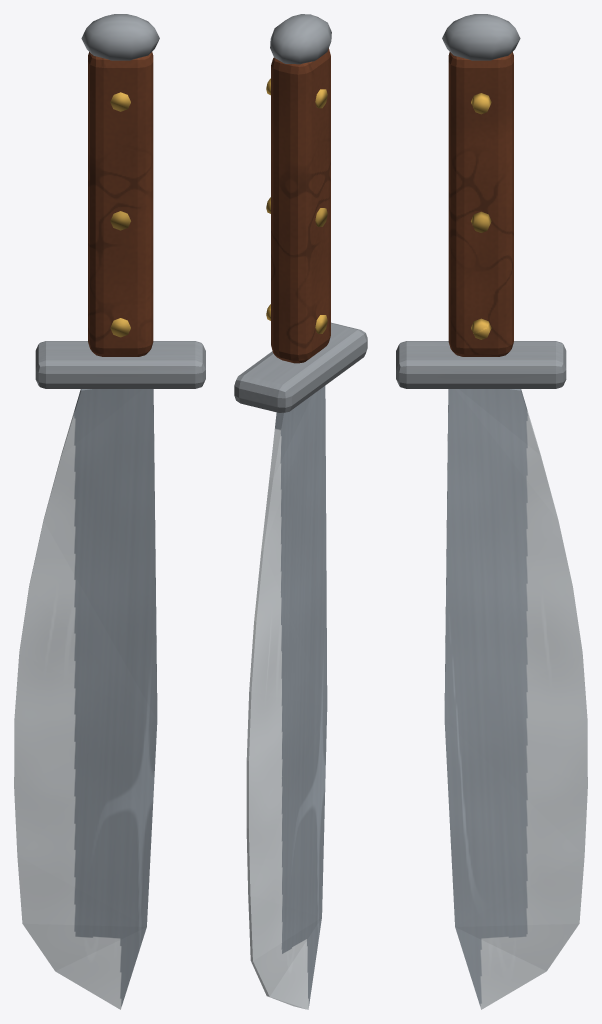
Rendered from tool_machete.glb.
3 renders of one model, left to right at view 1: azimuth 90°, elevation 25°; view 2: azimuth 150°, elevation 25°; view 3: azimuth 270°, elevation 25°, orthographic.
Visible parts, largest first — view 1: Tool; view 2: Tool; view 3: Tool.
Part boxes in pixels (x1,y1,x2,y2): Tool: (14, 14, 205, 1009); Tool: (234, 14, 367, 1009); Tool: (396, 14, 587, 1009).
Bounding box in the file's own units: 0.052 × 0.833 × 0.1463.
Materials: 1 (1 with a texture image).
